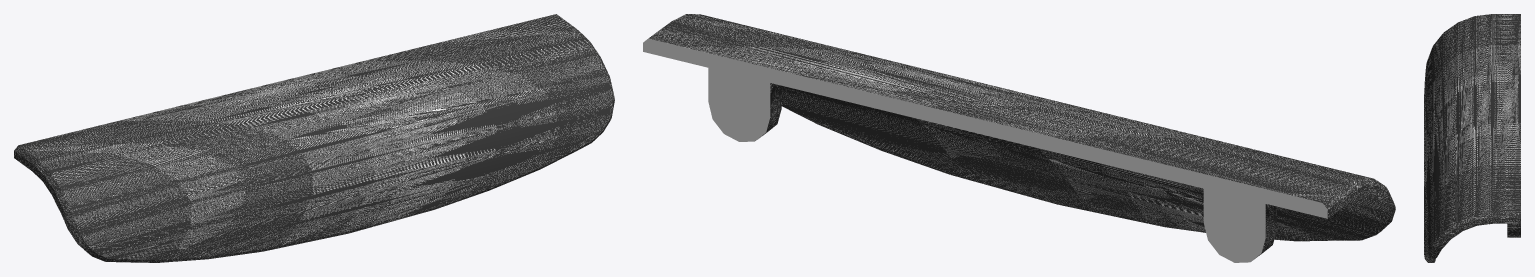
Rendered from original-45.obj.
3 renders of one model, left to right at view 1: azimuth 30°, elevation 25°; view 2: azimuth 150°, elevation 25°; view 3: azimuth 270°, elevation 25°, orthographic. The views are drawn at different scales.
Visible parts, largest first — view 1: _7156-PC_DF1/_7156-PC_DF/mesh32/mesh32-geometry#mesh32-geometry; view 2: _7156-PC_DF1/_7156-PC_DF/mesh32/mesh32-geometry#mesh32-geometry; view 3: _7156-PC_DF1/_7156-PC_DF/mesh32/mesh32-geometry#mesh32-geometry.
Boxes of the visible parts, bbox=[...] form: _7156-PC_DF1/_7156-PC_DF/mesh32/mesh32-geometry#mesh32-geometry: bbox=[14, 14, 614, 262]; _7156-PC_DF1/_7156-PC_DF/mesh32/mesh32-geometry#mesh32-geometry: bbox=[643, 14, 1395, 262]; _7156-PC_DF1/_7156-PC_DF/mesh32/mesh32-geometry#mesh32-geometry: bbox=[1424, 14, 1520, 262].
Bounding box in the file's own units: 0.2366 × 0.0451 × 0.0479.
